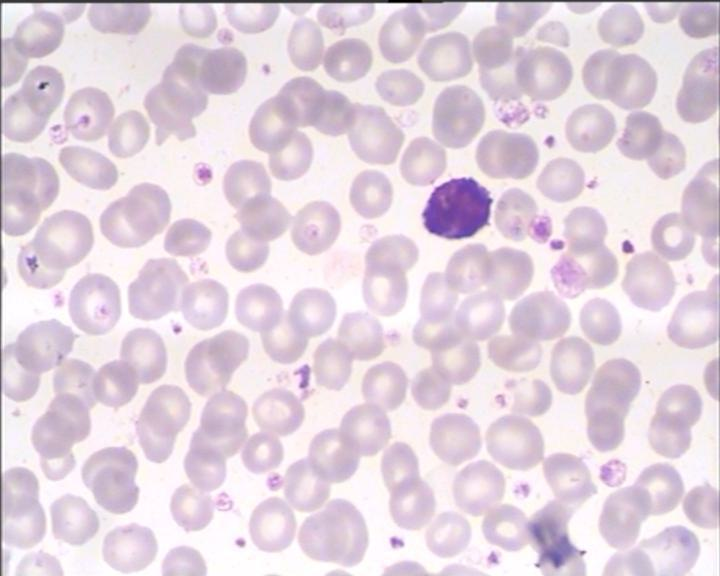baso: (418, 171, 496, 246)
